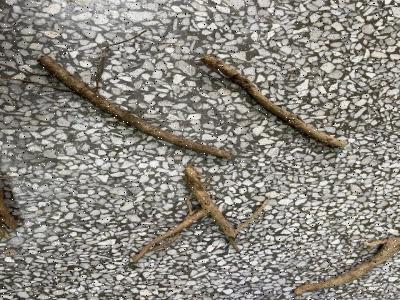Root: (38, 55, 229, 157), (201, 55, 345, 147), (134, 164, 238, 261), (294, 237, 399, 295)
